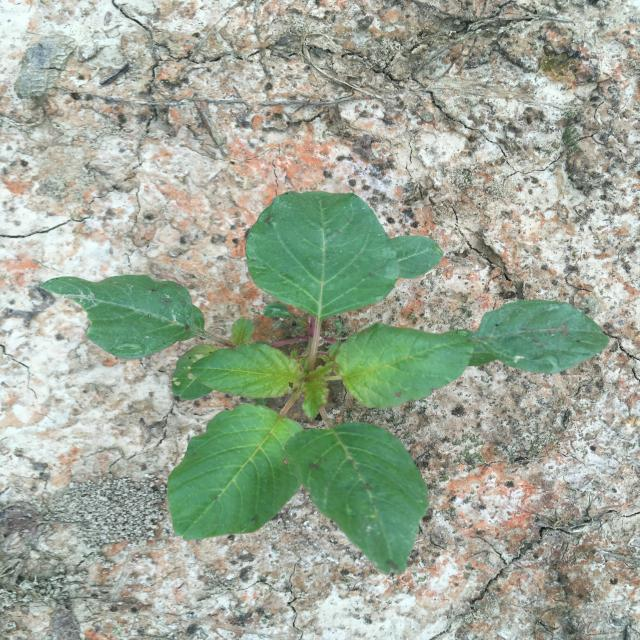PalmerAmaranth: (40, 189, 610, 576)
